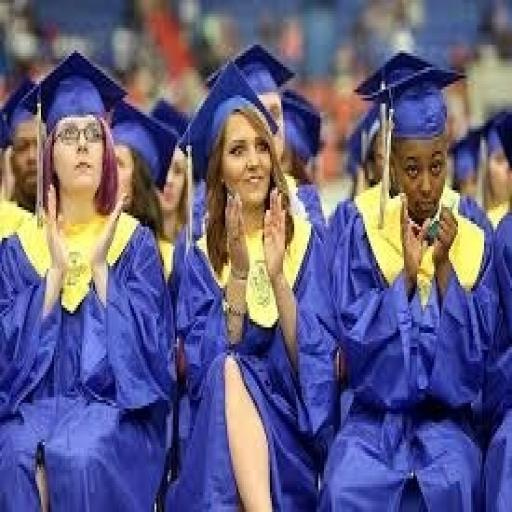clapping: (2, 39, 508, 509)
